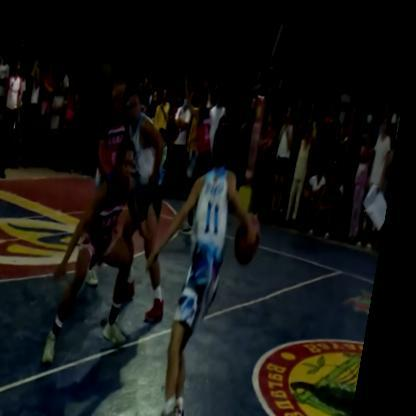basketball: (237, 209, 272, 264)
